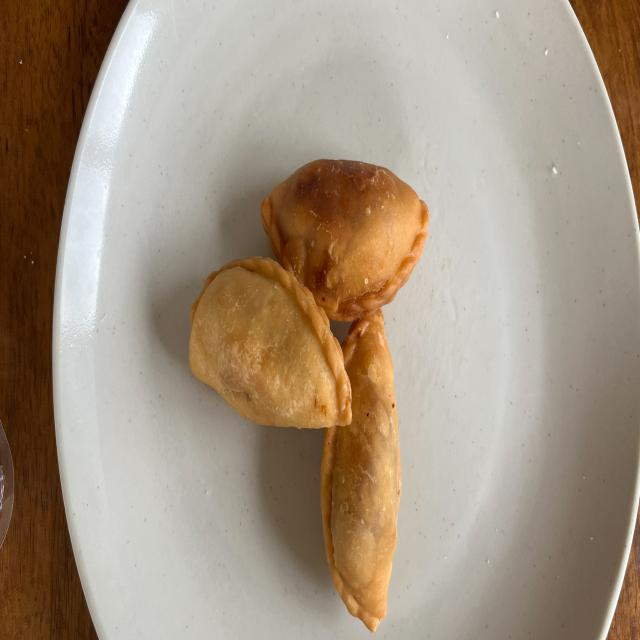karipap: (189, 258, 351, 429), (261, 160, 429, 320), (321, 309, 401, 631)
